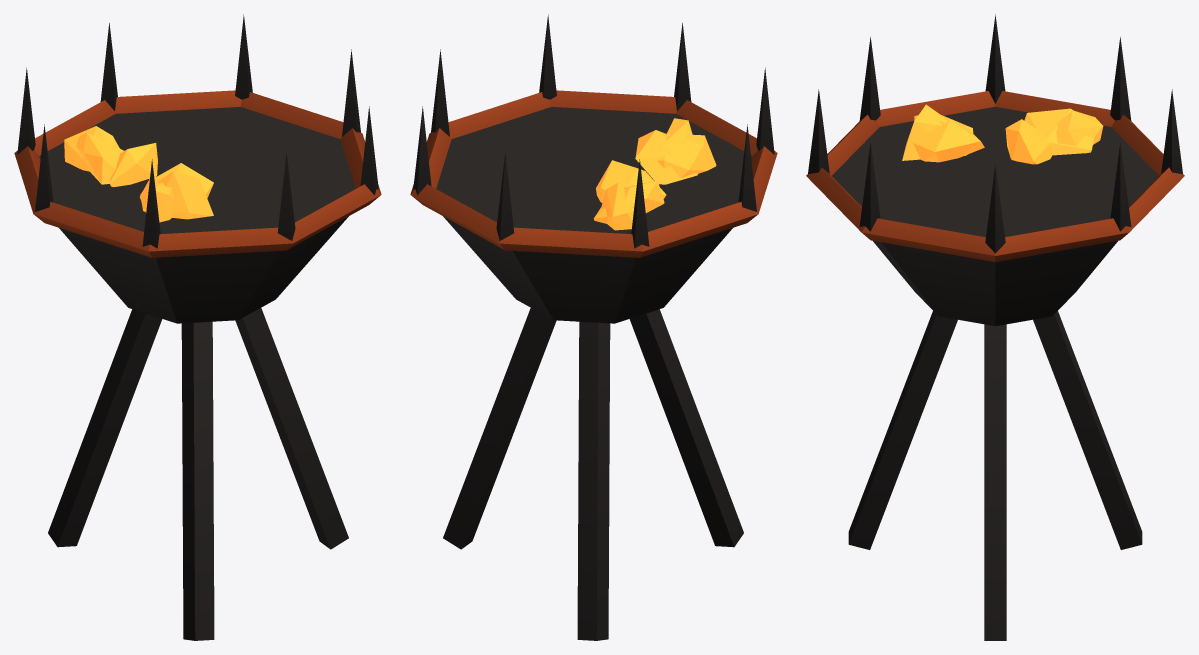
File: brazier.glb
3 renders of one model, left to right at view 1: azimuth 30°, elevation 25°; view 2: azimuth 150°, elevation 25°; view 3: azimuth 270°, elevation 25°, orthographic.
Visible parts, largest first — view 1: brazier_mesh; view 2: brazier_mesh; view 3: brazier_mesh.
Boxes of the visible parts, box(x1,y1,x2,y2) form: brazier_mesh: box(14, 14, 381, 640); brazier_mesh: box(410, 14, 777, 640); brazier_mesh: box(806, 14, 1184, 640).
Size of the model in its own units: 1.18 by 1.68 by 1.18.
